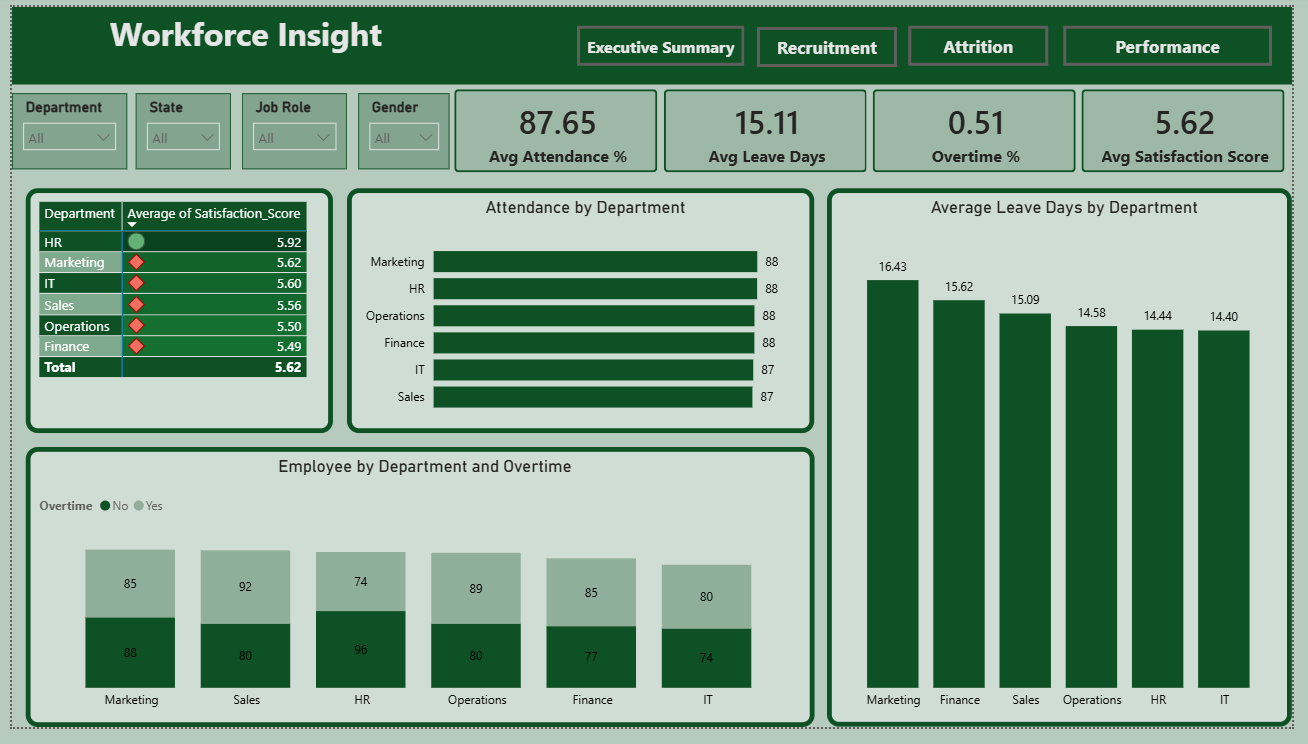

The dashboard page shown, as its layout file describes it:
{"tool":"powerbi","page":{"name":"Workforce","canvas":[1280,720],"ordinal":4},"visuals":[{"type":"shape","box":[0,0,1280,77.5],"z":0},{"type":"textbox","box":[0,0,458.8,77.5],"z":1000},{"type":"actionButton","box":[896.2,18.8,140,40],"z":2000},{"type":"actionButton","box":[1051.2,18.8,208.8,40],"z":3000},{"type":"actionButton","box":[565,18.8,167.5,40],"z":4000},{"type":"actionButton","box":[745,20,140,40],"z":5000},{"type":"cardVisual","fields":{"Data":["Avg(Hr_Analytics.Attendance_%)","Avg(Hr_Analytics.Leave_Days)","Hr_Analytics.Overtime %","Avg(Hr_Analytics.Satisfaction_Score)"]},"box":[437.5,77.5,842.5,93.8],"z":6000},{"type":"clusteredBarChart","title":" Attendance by Department","fields":{"Category":["Hr_Analytics.Department"],"Y":["Avg(Hr_Analytics.Attendance_%)"]},"box":[335,181.2,467.5,245],"z":7000},{"type":"clusteredColumnChart","title":"Average Leave Days by Department","fields":{"Category":["Hr_Analytics.Department"],"Y":["Avg(Hr_Analytics.Leave_Days)"]},"box":[815,181.2,465,538.8],"z":8000},{"type":"columnChart","title":"Employee by Department and Overtime","fields":{"Category":["Hr_Analytics.Department"],"Y":["CountNonNull(Hr_Analytics.Employee_ID)"],"Series":["Hr_Analytics.Overtime"]},"box":[13.8,440,788.8,280],"z":9000},{"type":"pivotTable","fields":{"Rows":["Hr_Analytics.Department"],"Values":["Avg(Hr_Analytics.Satisfaction_Score)"]},"box":[13.8,181.2,307.5,245],"z":10000},{"type":"slicer","fields":{"Values":["Hr_Analytics.Department"]},"box":[0,86.2,115,76.2],"z":11000},{"type":"slicer","fields":{"Values":["Hr_Analytics.Job_Role"]},"box":[230,86.2,105,76.2],"z":12000},{"type":"slicer","fields":{"Values":["Hr_Analytics.State"]},"box":[123.8,86.2,95,76.2],"z":13000},{"type":"slicer","fields":{"Values":["Hr_Analytics.Gender"]},"box":[346.2,86.2,91.2,76.2],"z":14000}]}

Visuals, with their boxes in screenshot pixels (x1, y1, x2, y2), scaled from the page's 1280x720 canvas onto the 1308x744 screenshot:
shape: select_region(0, 0, 1307, 80)
textbox: select_region(0, 0, 469, 80)
actionButton: select_region(916, 19, 1059, 61)
actionButton: select_region(1074, 19, 1288, 61)
actionButton: select_region(577, 19, 749, 61)
actionButton: select_region(761, 21, 904, 62)
cardVisual - Avg(Hr_Analytics.Attendance_%) x Avg(Hr_Analytics.Leave_Days): select_region(447, 80, 1307, 177)
" Attendance by Department" clusteredBarChart: select_region(342, 187, 820, 440)
"Average Leave Days by Department" clusteredColumnChart: select_region(833, 187, 1307, 743)
"Employee by Department and Overtime" columnChart: select_region(14, 455, 820, 743)
pivotTable - Hr_Analytics.Department x Avg(Hr_Analytics.Satisfaction_Score): select_region(14, 187, 328, 440)
slicer - Hr_Analytics.Department: select_region(0, 89, 118, 168)
slicer - Hr_Analytics.Job_Role: select_region(235, 89, 342, 168)
slicer - Hr_Analytics.State: select_region(127, 89, 224, 168)
slicer - Hr_Analytics.Gender: select_region(354, 89, 447, 168)
